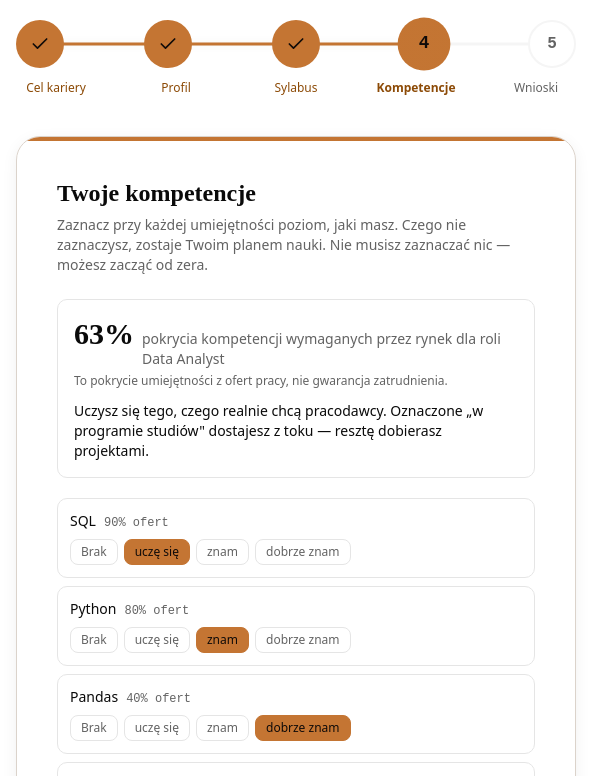
Test case: OnboardingWizard — klikalny pasek kroków (numeracja 5 kroków) › skok do osiągniętego kroku (≤ maxReached) działa — powrót na Profil
// Start na kroku 3. Klik kropki „Profil" (idx1 → „Krok 2: Profil", osiągnięty) → render Profilu.
Click the button named "Krok 2: Profil": {"x": 168, "y": 44} [144,20,192,68]
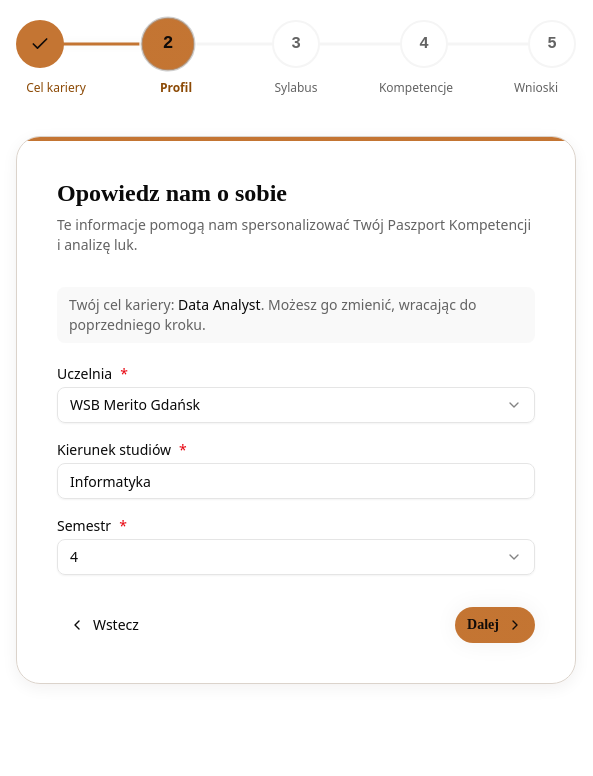
expect the heading "Opowiedz nam o sobie" is shown: met, box [57,180,287,206]
